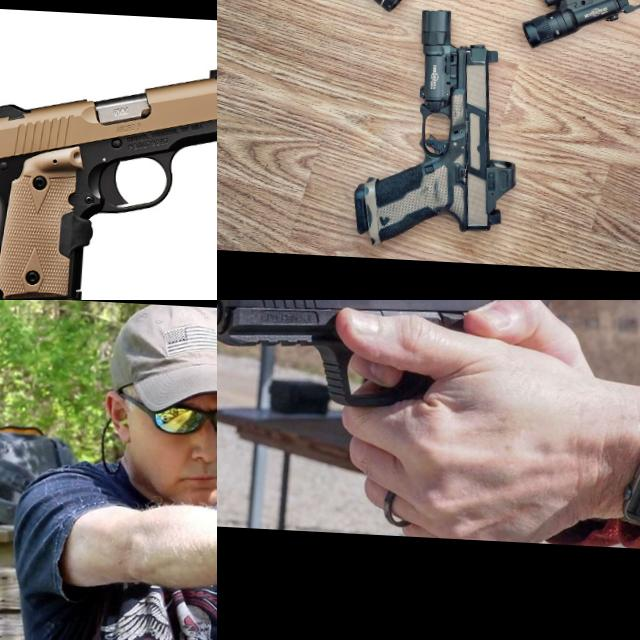handgun: (0, 51, 217, 300), (217, 300, 552, 419), (350, 36, 522, 253), (441, 0, 640, 94), (217, 0, 423, 78), (529, 0, 640, 80)
